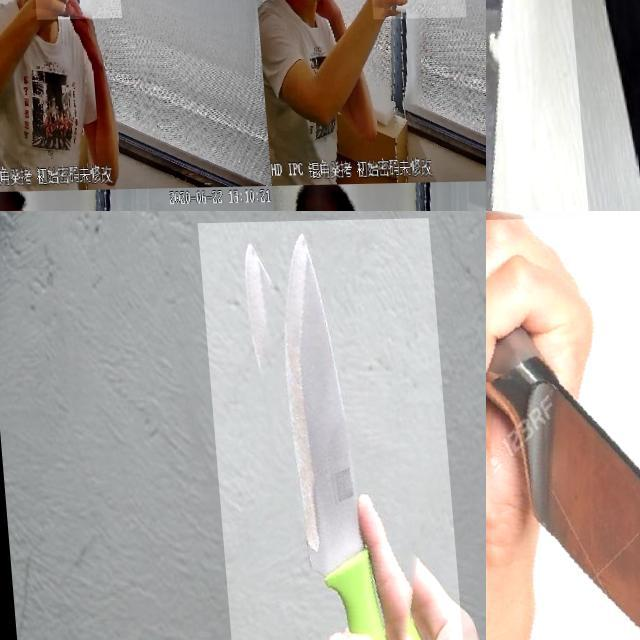-: (197, 220, 462, 640), (486, 214, 640, 640), (486, 0, 593, 211)
gun-knife-thesis - v11 Yolov5 augmented: (364, 0, 463, 55), (28, 0, 119, 48)
